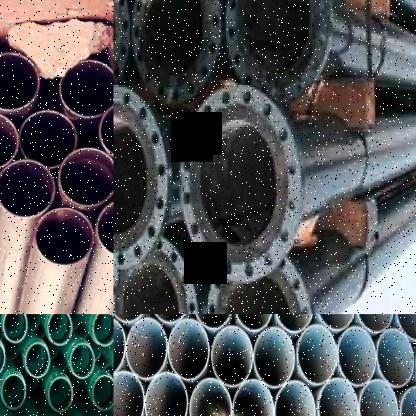pipe: (196, 113, 281, 256), (233, 0, 316, 82), (139, 0, 212, 80), (113, 114, 152, 238), (115, 259, 186, 314), (35, 207, 93, 266), (19, 110, 78, 168), (222, 269, 296, 314), (0, 160, 56, 218), (59, 148, 113, 207), (59, 60, 113, 118), (168, 318, 210, 380), (254, 326, 296, 387), (126, 318, 167, 380), (212, 325, 252, 387), (298, 324, 338, 386), (337, 326, 376, 386), (0, 52, 40, 110), (377, 328, 414, 388), (144, 371, 187, 416), (189, 377, 232, 416), (318, 377, 360, 416), (232, 378, 274, 416), (274, 379, 315, 416), (359, 379, 399, 416), (113, 370, 143, 416), (0, 112, 19, 171), (96, 198, 113, 258), (25, 342, 50, 380), (70, 343, 96, 379), (48, 376, 73, 413), (1, 375, 26, 410), (99, 101, 113, 160), (47, 314, 72, 346), (92, 375, 114, 411), (2, 314, 27, 344), (355, 314, 394, 333), (113, 316, 125, 377), (92, 314, 114, 347), (273, 314, 313, 332), (233, 314, 273, 331), (315, 314, 355, 330), (395, 314, 416, 342), (192, 314, 233, 328), (1, 334, 20, 361), (20, 365, 39, 392), (400, 385, 416, 416), (42, 333, 60, 359), (22, 314, 40, 332), (64, 314, 81, 330), (0, 339, 6, 374)
